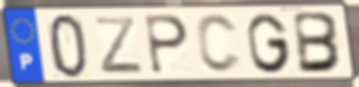0: (46, 12, 90, 81)
B: (292, 10, 345, 76)
C: (194, 12, 245, 76)
G: (245, 11, 294, 76)
P: (143, 14, 191, 77)
Z: (92, 15, 146, 76)
